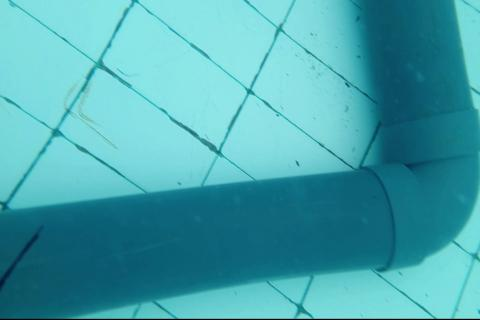keretakan: (0, 227, 42, 290)
